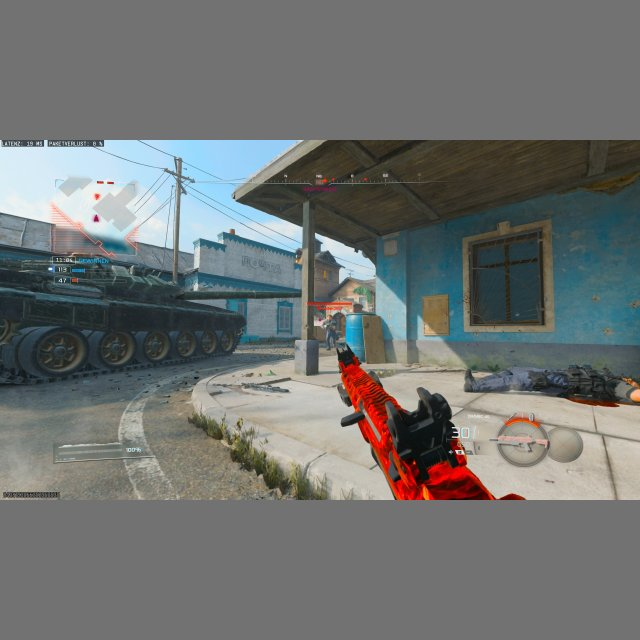head: (328, 312, 334, 319)
player: (321, 313, 339, 350)
